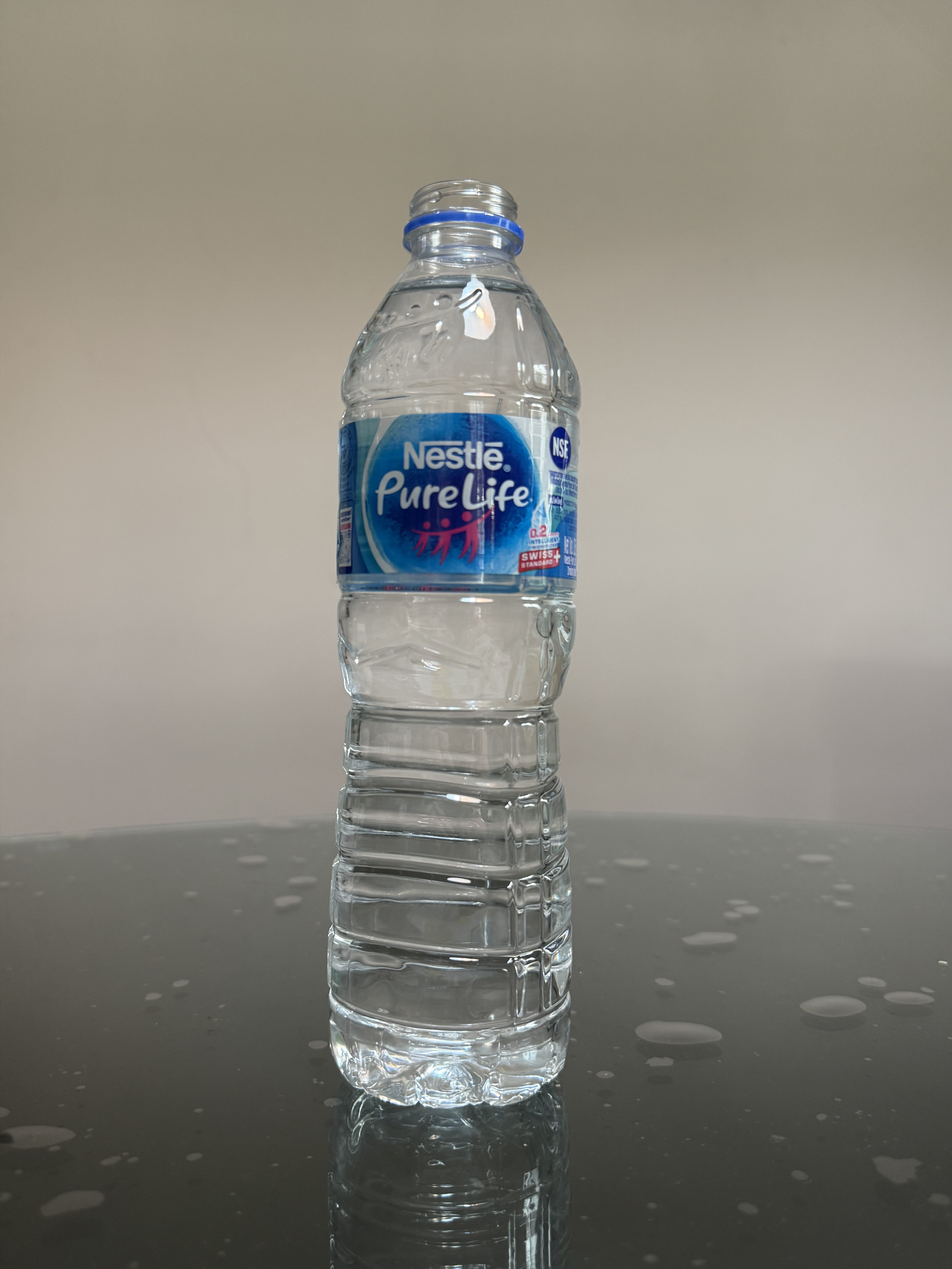no_cap: (400, 175, 528, 250)
